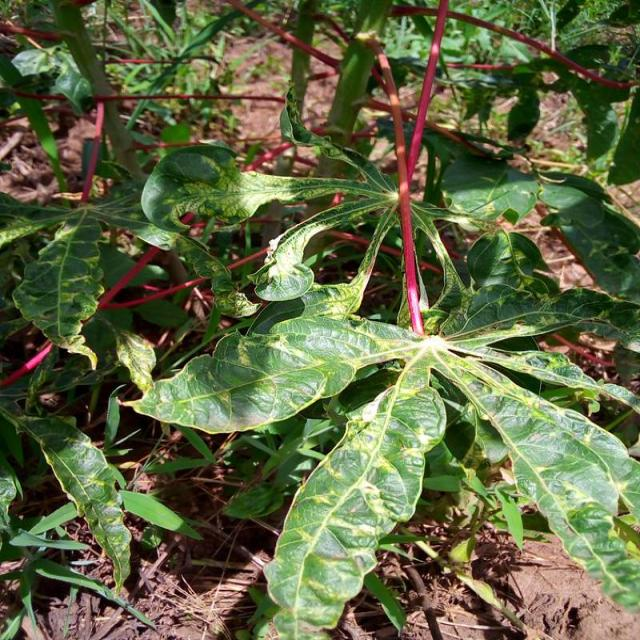cassava leaf: (121, 7, 638, 637), (263, 376, 447, 638)
